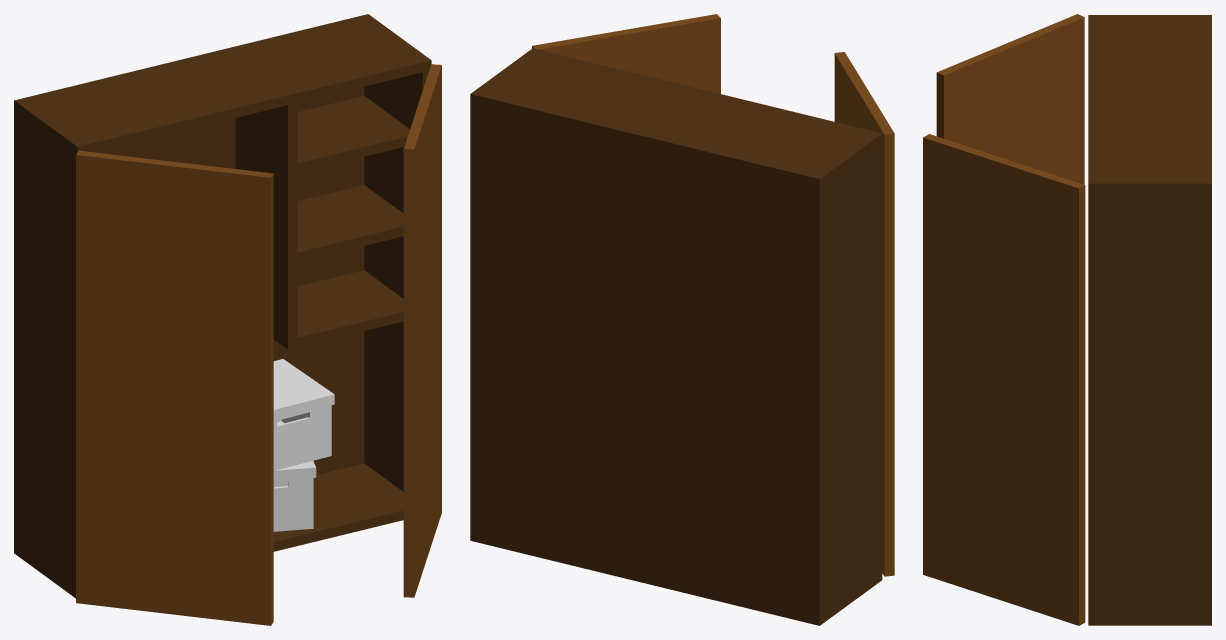
The model's file is Lemari.fbx.
3 renders of one model, left to right at view 1: azimuth 30°, elevation 25°; view 2: azimuth 150°, elevation 25°; view 3: azimuth 270°, elevation 25°, orthographic. The views are drawn at different scales.
Visible parts, largest first — view 1: Plane.041, Plane.039, Plane.040; view 2: Plane.041; view 3: Plane.041.
Boxes of the visible parts, x1=… form: Plane.041: x1=14, y1=14, x2=441, y2=625; Plane.039: x1=273, y1=359, x2=334, y2=470; Plane.040: x1=273, y1=461, x2=316, y2=531; Plane.041: x1=470, y1=14, x2=894, y2=625; Plane.041: x1=923, y1=14, x2=1211, y2=625.
Size of the model in its own units: 1351 by 1594 by 944.
